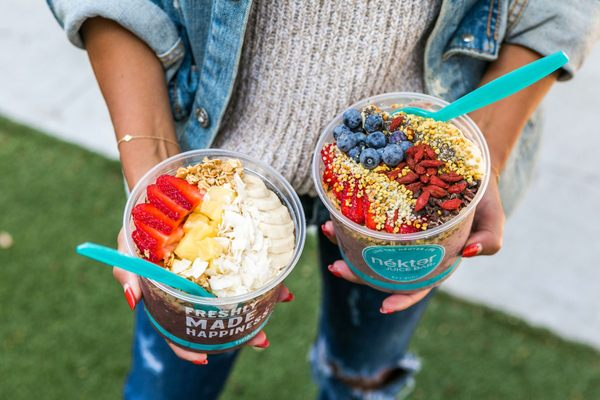salad: (395, 49, 572, 125)
sushi: (116, 149, 308, 356), (311, 91, 493, 298)
